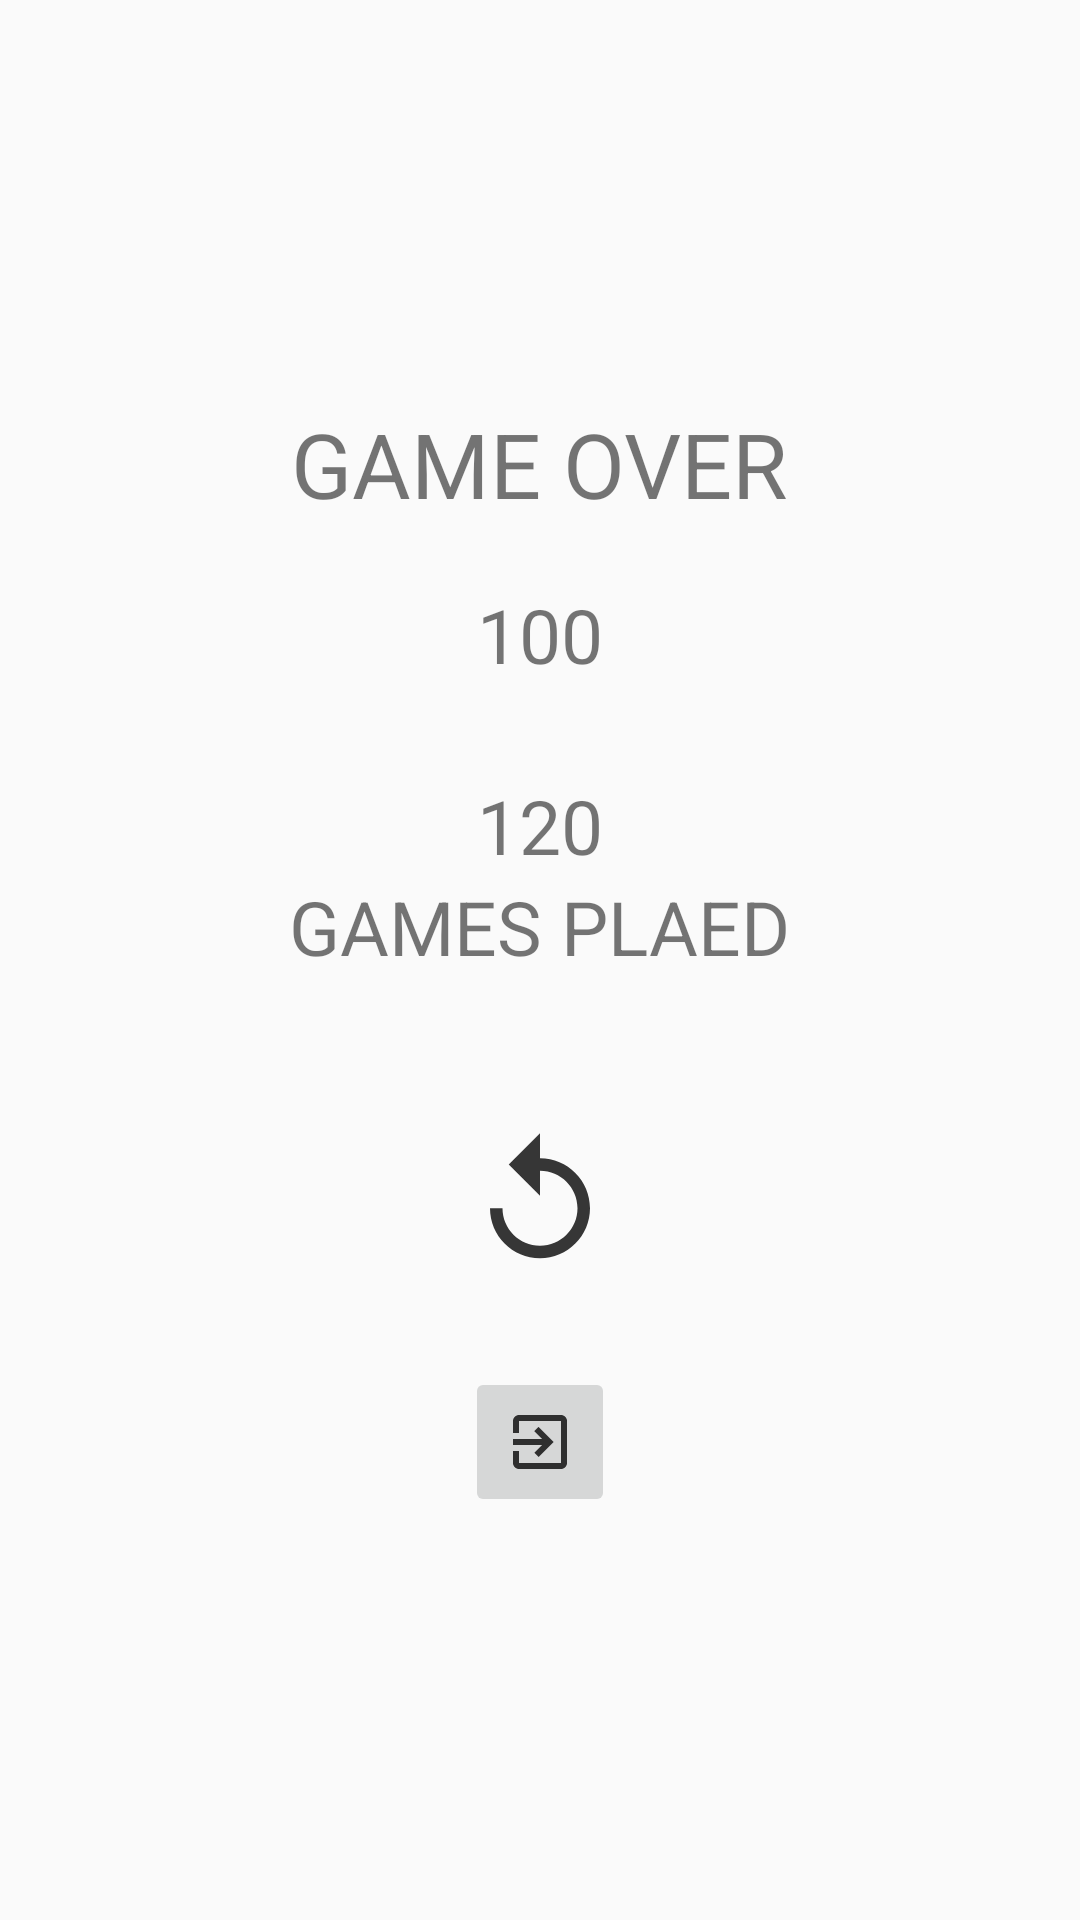

Icon bounding boxes for this 1080 x 1920 phone screenshot, format (x1=x1, y1=y1, x2=x2, y2=y2):
exit: (x1=477, y1=1385, x2=603, y2=1499)
replay: (x1=490, y1=1133, x2=590, y2=1259)
